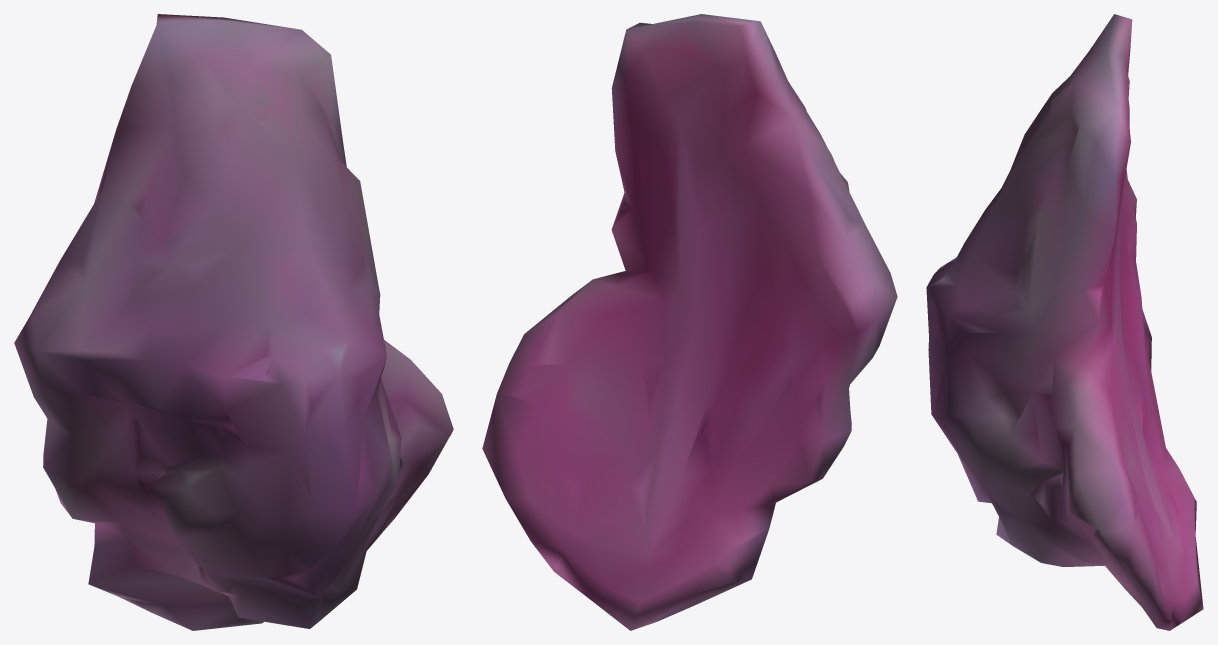
File: fragmento_la_sustenido.glb
3 renders of one model, left to right at view 1: azimuth 30°, elevation 25°; view 2: azimuth 150°, elevation 25°; view 3: azimuth 270°, elevation 25°, orthographic. The views are drawn at different scales.
Size of the model in its own units: 0.6762 by 1 by 0.4505.
